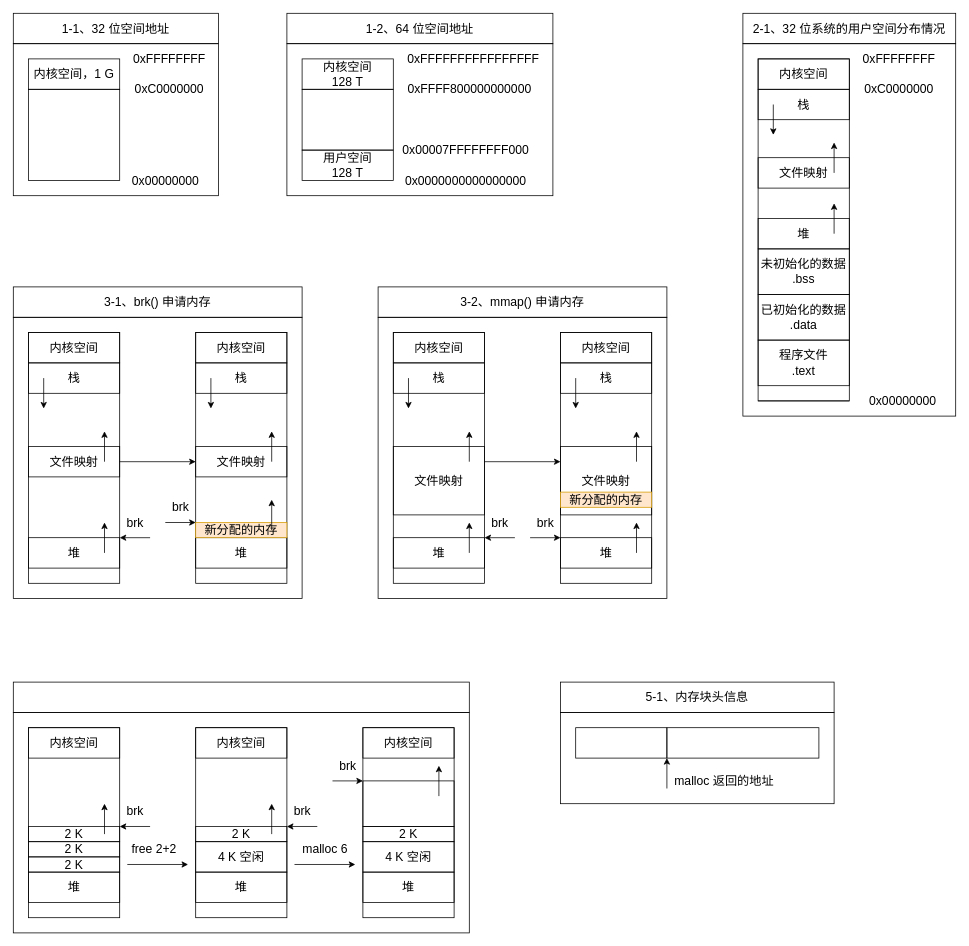
This 969x946 diagram has some shape labels left out. Here are the shapes that lost their labels. From the top down, the centre of each, then its label:
point (74, 134): 用户空间，3 G
point (347, 119): 未定义
point (241, 696): 4-1、堆内存碎片
point (621, 742): 内存块头信息
point (742, 742): 用户可以使用的内存块
point (408, 803): 6 K
